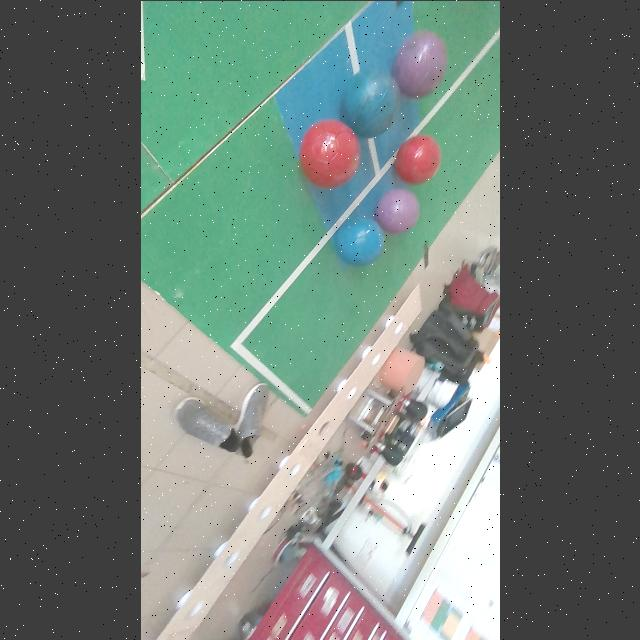B: (344, 69, 400, 137), (333, 217, 384, 266)
P: (393, 30, 447, 98), (375, 189, 419, 232)
R: (300, 119, 360, 187), (395, 135, 441, 182)
